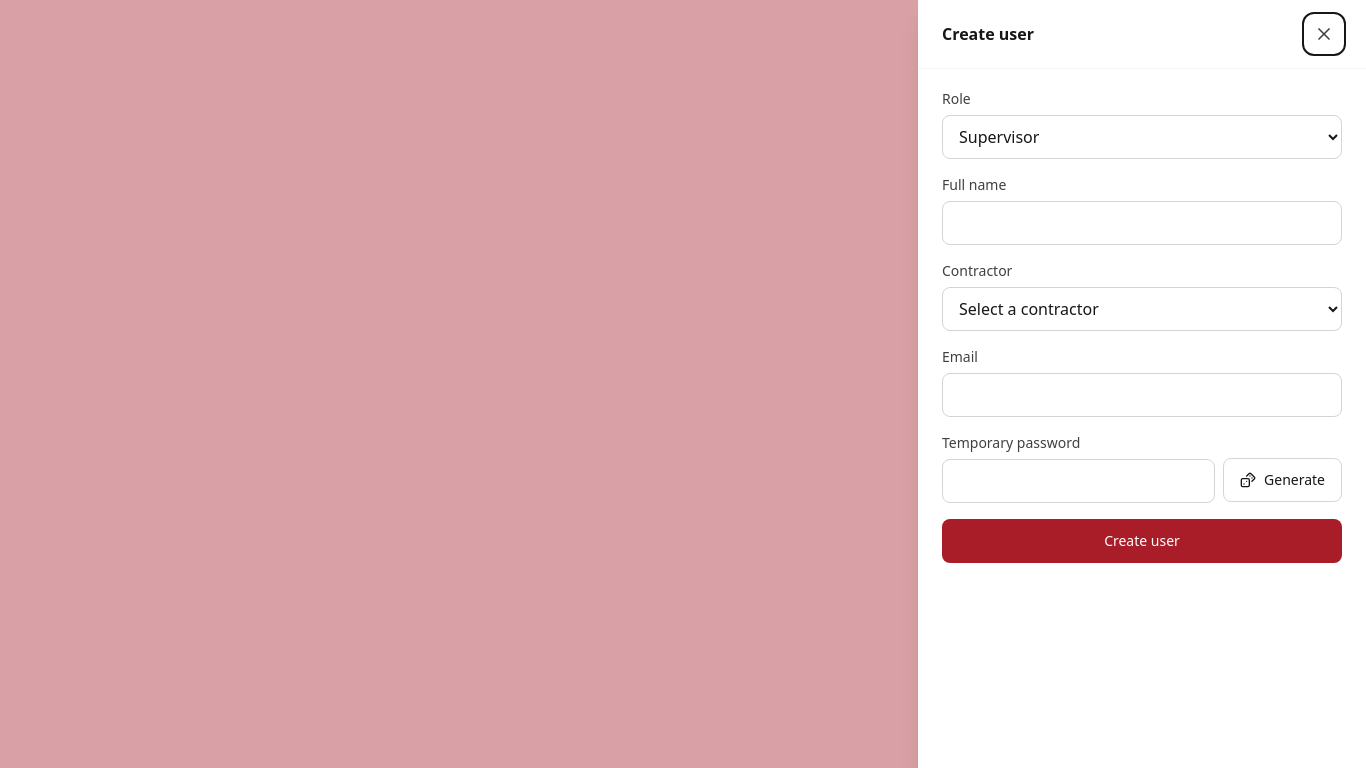
Create user: driver and security get a PIN card › shows the PIN once; after confirming it is gone from the page
Select "Security" in the dropdown labelled "Role". click: (1142, 137)
box: [942,115,1342,159]
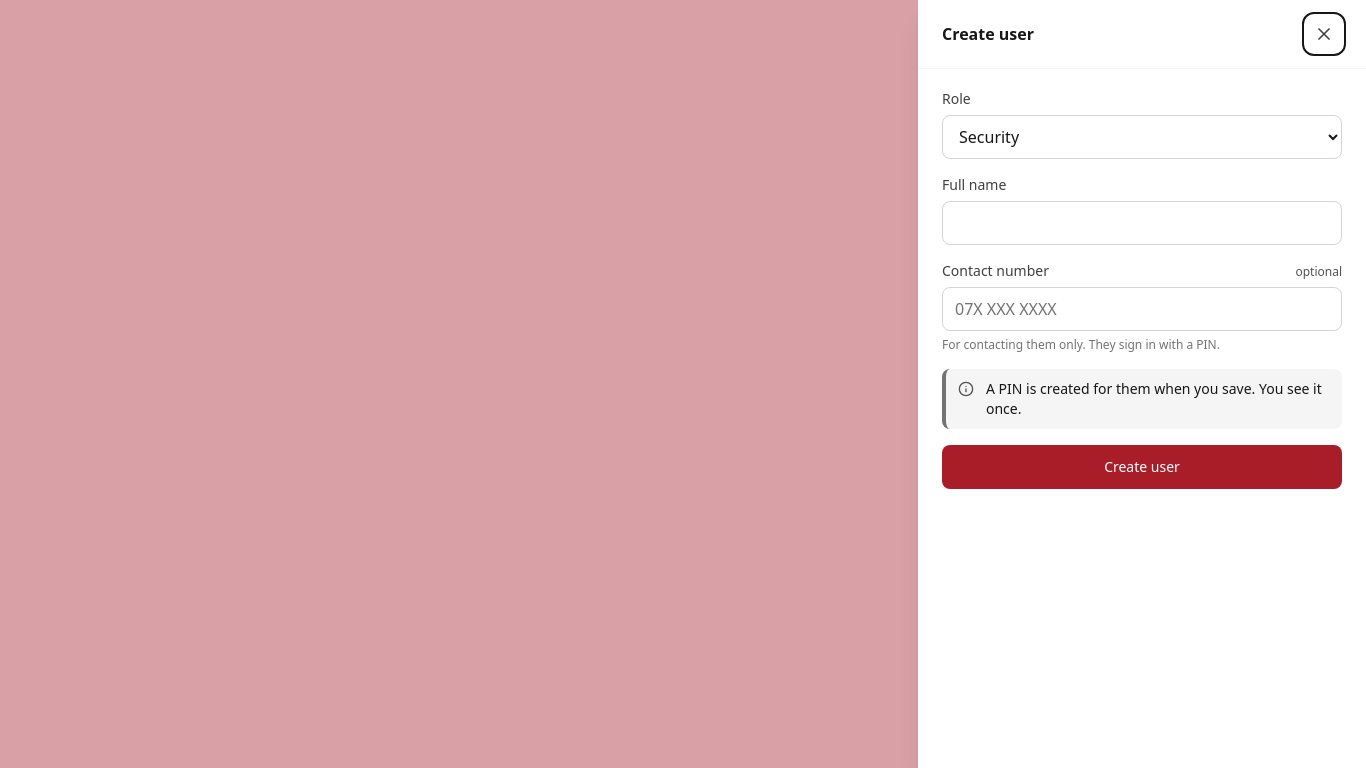
Type "Sam Guard" into the field labelled "Full name". click: (1142, 223)
box: [942,201,1342,245]
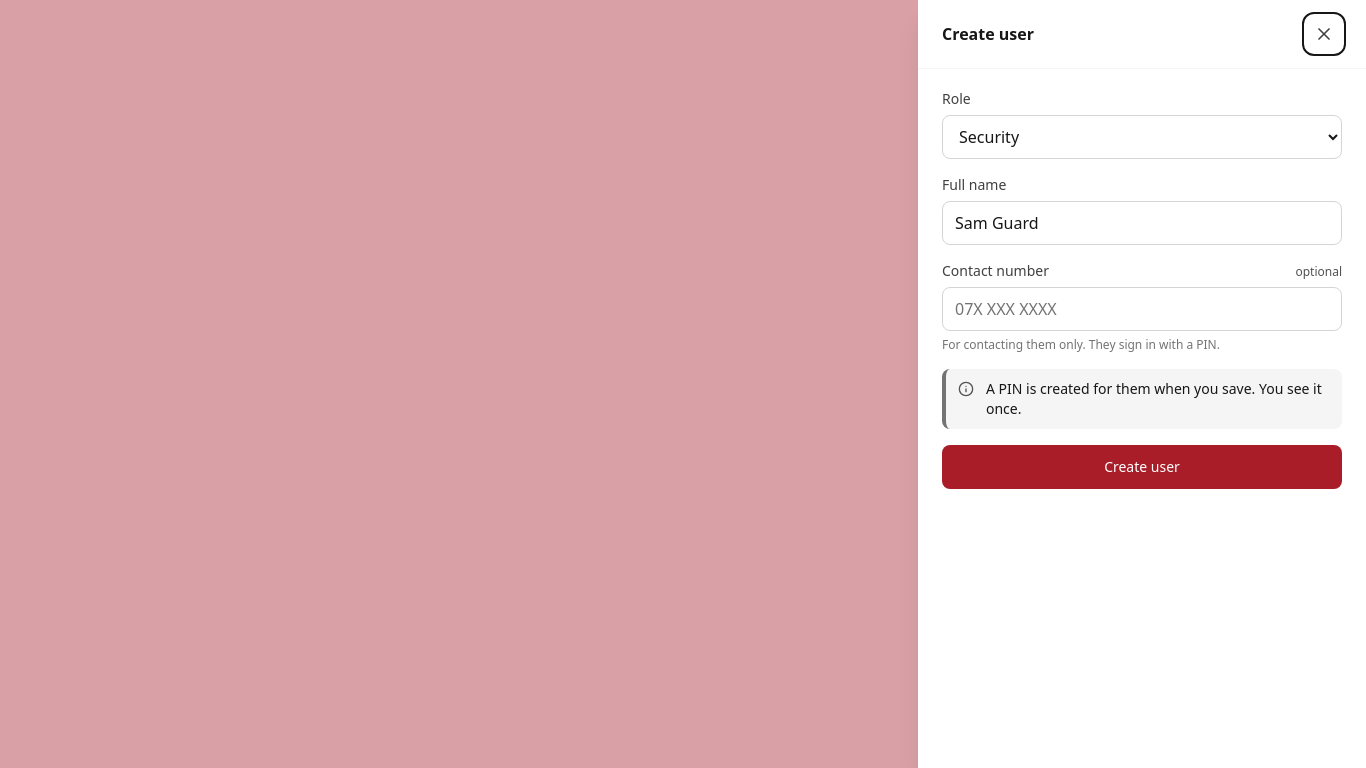
Click the button "Create user". click: (1142, 467)
box: [942,445,1342,489]
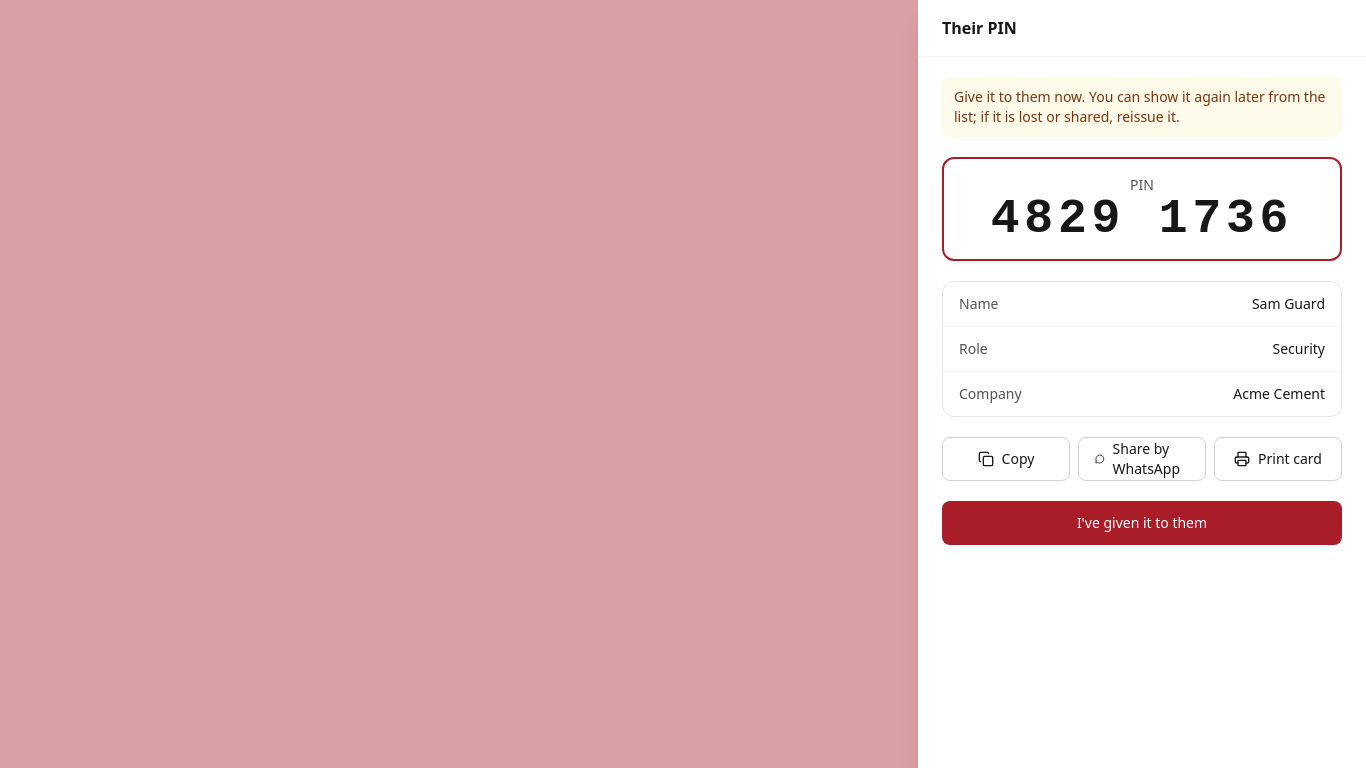
Check: the text with test id "pin-value" reads "4829 1736", box [991,192,1293,246]
Check: the text "Acme Cement" is shown, box [1233,384,1325,404]
Click the button "I've given it to them". click: (1142, 523)
box: [942,501,1342,545]
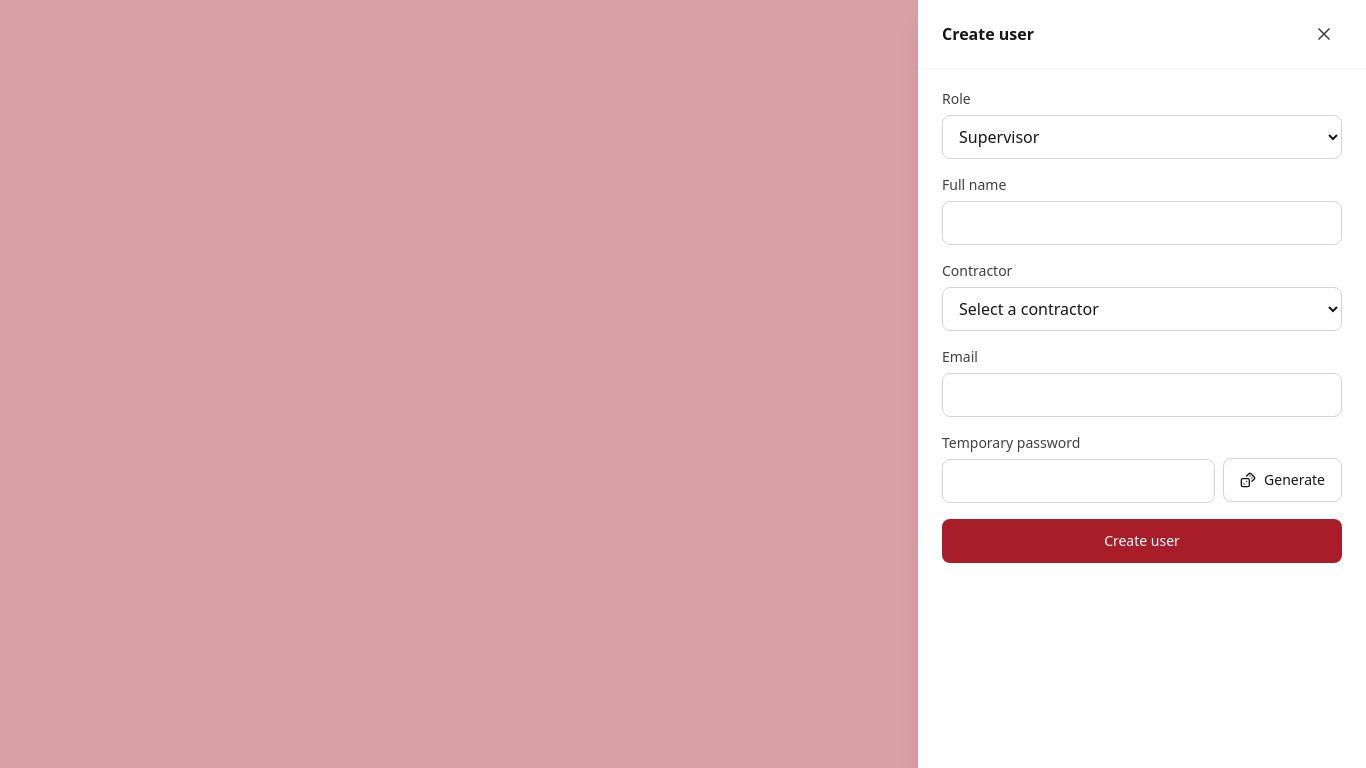
Check: the text "4829" is gone
